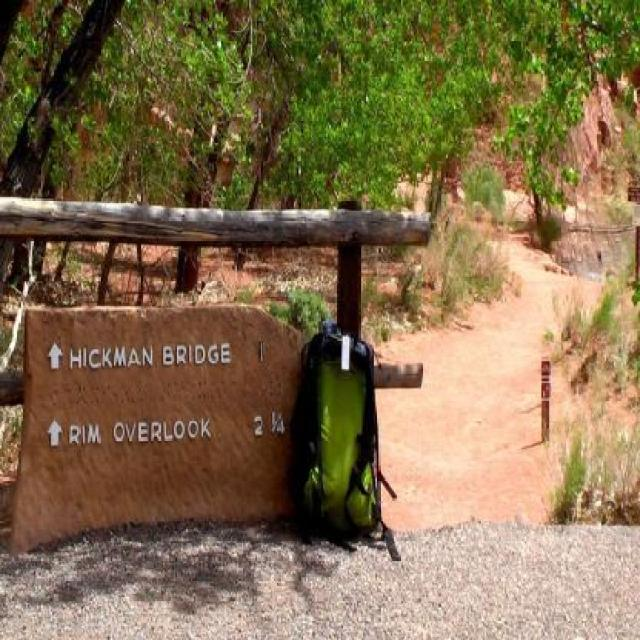backpack: (292, 317, 391, 549)
